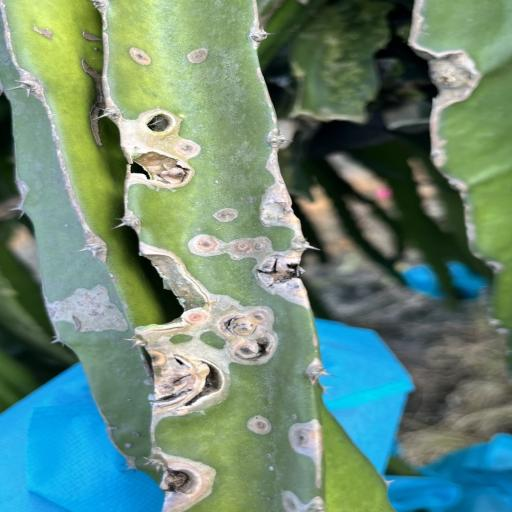stemcanker: (256, 446, 280, 507), (110, 427, 150, 454), (248, 418, 272, 439), (232, 242, 270, 254), (288, 409, 311, 426), (188, 313, 218, 326), (177, 110, 195, 130), (264, 453, 282, 473), (85, 45, 107, 60), (184, 196, 204, 212), (185, 225, 205, 239), (178, 140, 198, 154), (218, 209, 240, 221), (208, 176, 224, 192), (120, 394, 137, 407), (288, 410, 304, 422), (58, 220, 74, 231), (124, 441, 140, 451), (60, 222, 74, 230), (134, 431, 146, 440), (182, 144, 195, 152), (214, 179, 228, 186), (194, 226, 206, 234), (93, 46, 102, 54)
